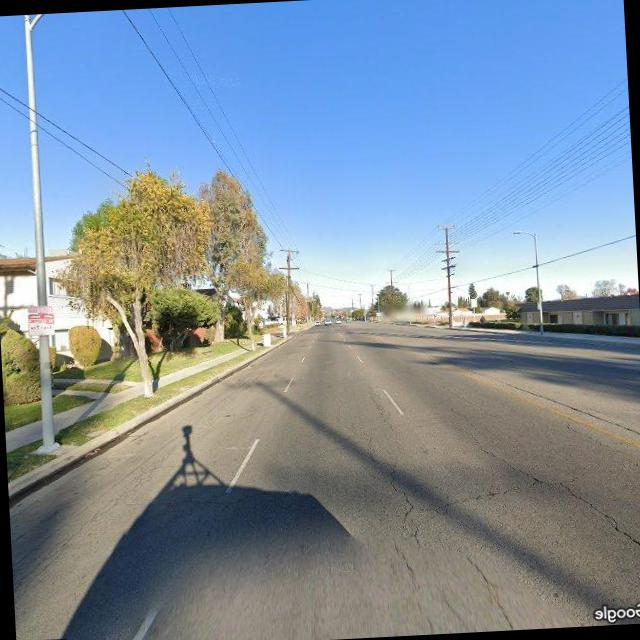crack: (466, 405, 640, 568), (18, 443, 186, 588), (407, 452, 640, 516), (353, 418, 420, 529)
